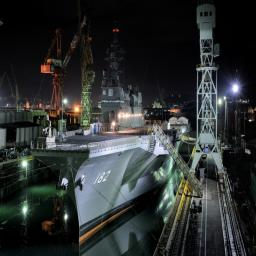Portanaves: (29, 16, 190, 251)
